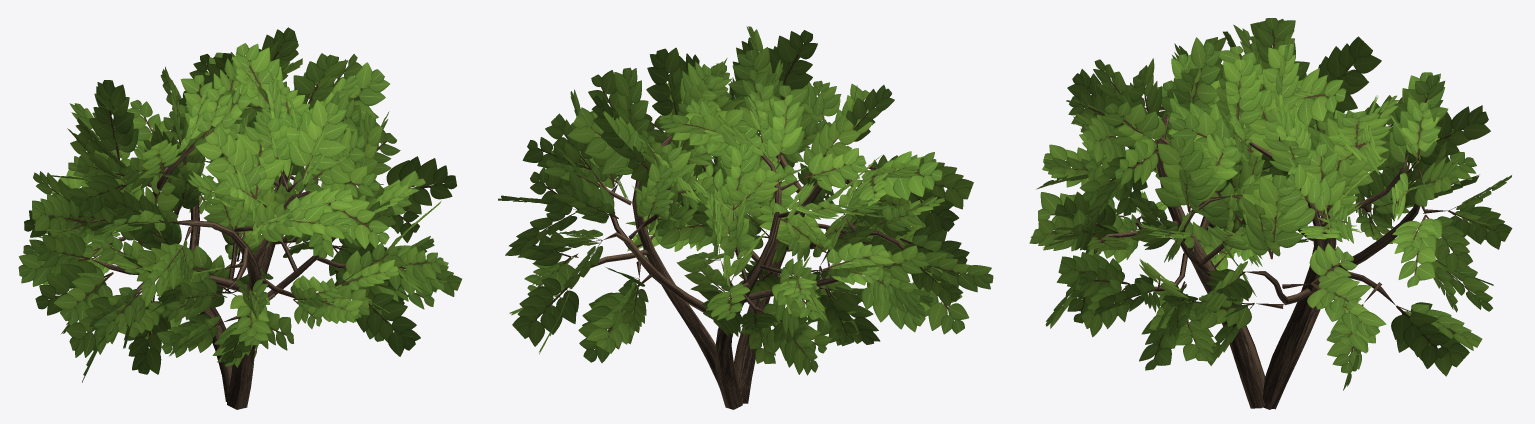
File: bush-round.glb
3 views of the same model, side by side, from view 1: azimuth 30°, elevation 25°; view 2: azimuth 150°, elevation 25°; view 3: azimuth 270°, elevation 25° (orthographic). The views are drawn at different scales.
Parts seen in each view (by area): view 1: Bush_Round; view 2: Bush_Round; view 3: Bush_Round.
Boxes of the visible parts, x1=… form: Bush_Round: x1=18, y1=27, x2=461, y2=409; Bush_Round: x1=498, y1=26, x2=993, y2=409; Bush_Round: x1=1029, y1=18, x2=1512, y2=409.
Bounding box in the file's own units: 2.94 × 2.31 × 2.66.
Materials: 2 (2 with a texture image).
